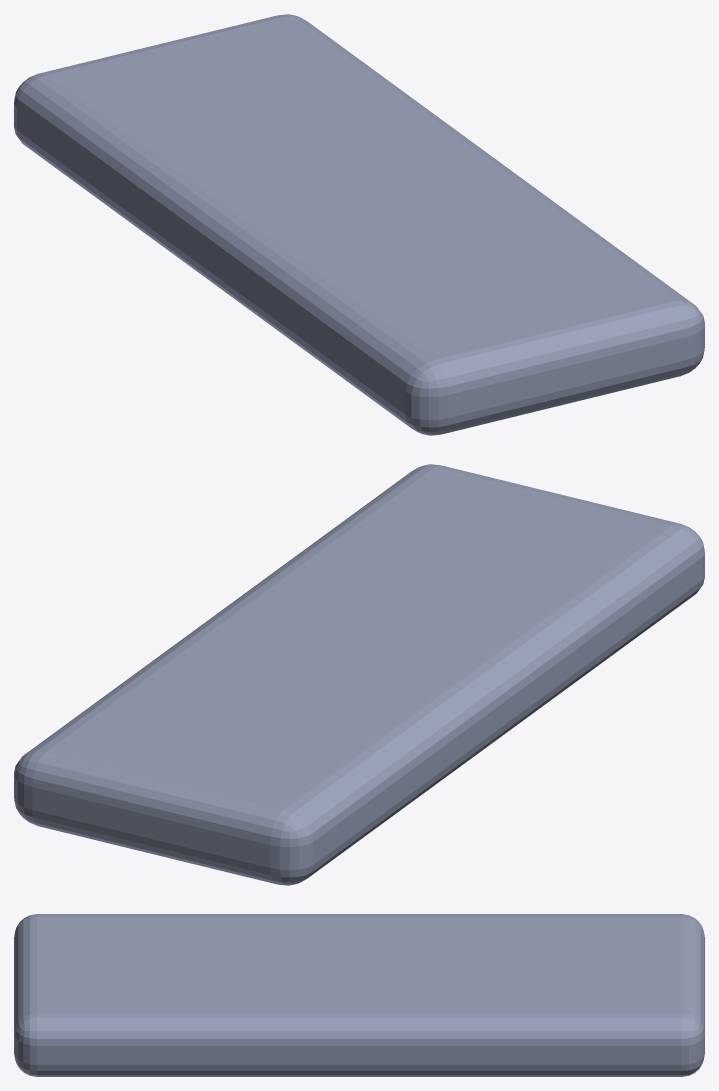
The model's file is Plataforma.fbx.
3 renders of one model, top to bottom at view 1: azimuth 30°, elevation 25°; view 2: azimuth 150°, elevation 25°; view 3: azimuth 270°, elevation 25°, orthographic. The views are drawn at different scales.
Parts seen in each view (by area): view 1: reto; view 2: reto; view 3: reto.
Part boxes in pixels (x1,y1,x2,y2): reto: (14,14,704,435); reto: (14,464,704,885); reto: (14,914,704,1076).
Bounding box in the file's own units: 161 × 37.94 × 391.
